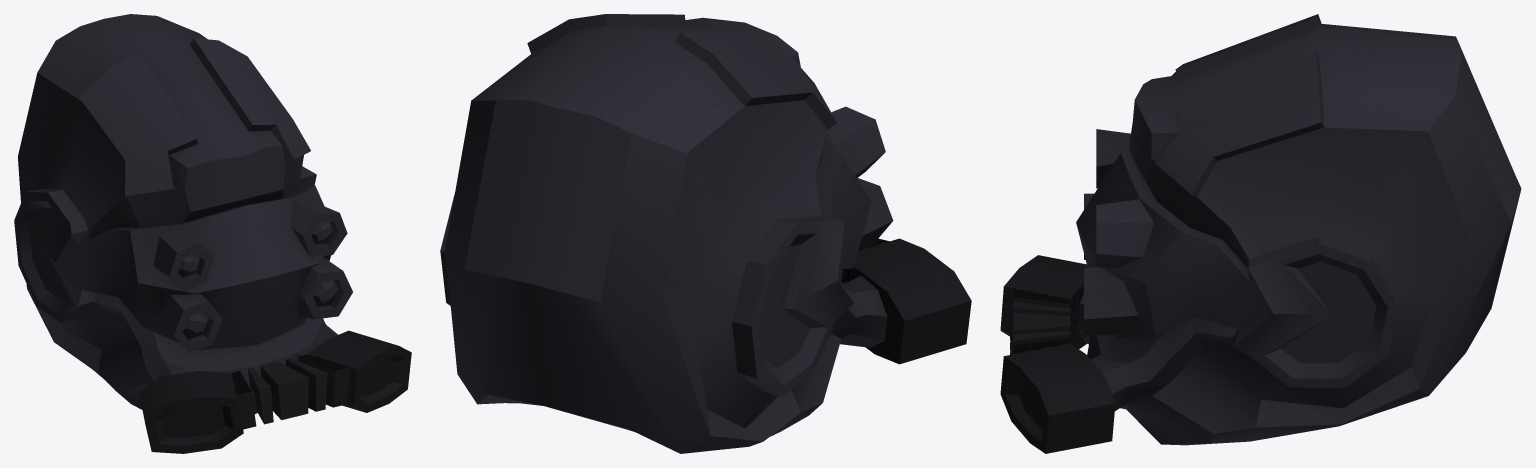
Rendered from helmet_0_ebony.glb.
The picture shows the model from 3 angles, left to right: view 1: azimuth 30°, elevation 25°; view 2: azimuth 150°, elevation 25°; view 3: azimuth 270°, elevation 25°; orthographic projection. The views are drawn at different scales.
Parts seen in each view (by area): view 1: Helmet; view 2: Helmet; view 3: Helmet.
Boxes of the visible parts, bbox=[...] form: Helmet: bbox=[14, 14, 411, 453]; Helmet: bbox=[440, 14, 971, 453]; Helmet: bbox=[1000, 14, 1521, 453].
Size of the model in its own units: 0.3496 by 0.4121 by 0.4995.
Materials: 2 (2 with a texture image).
